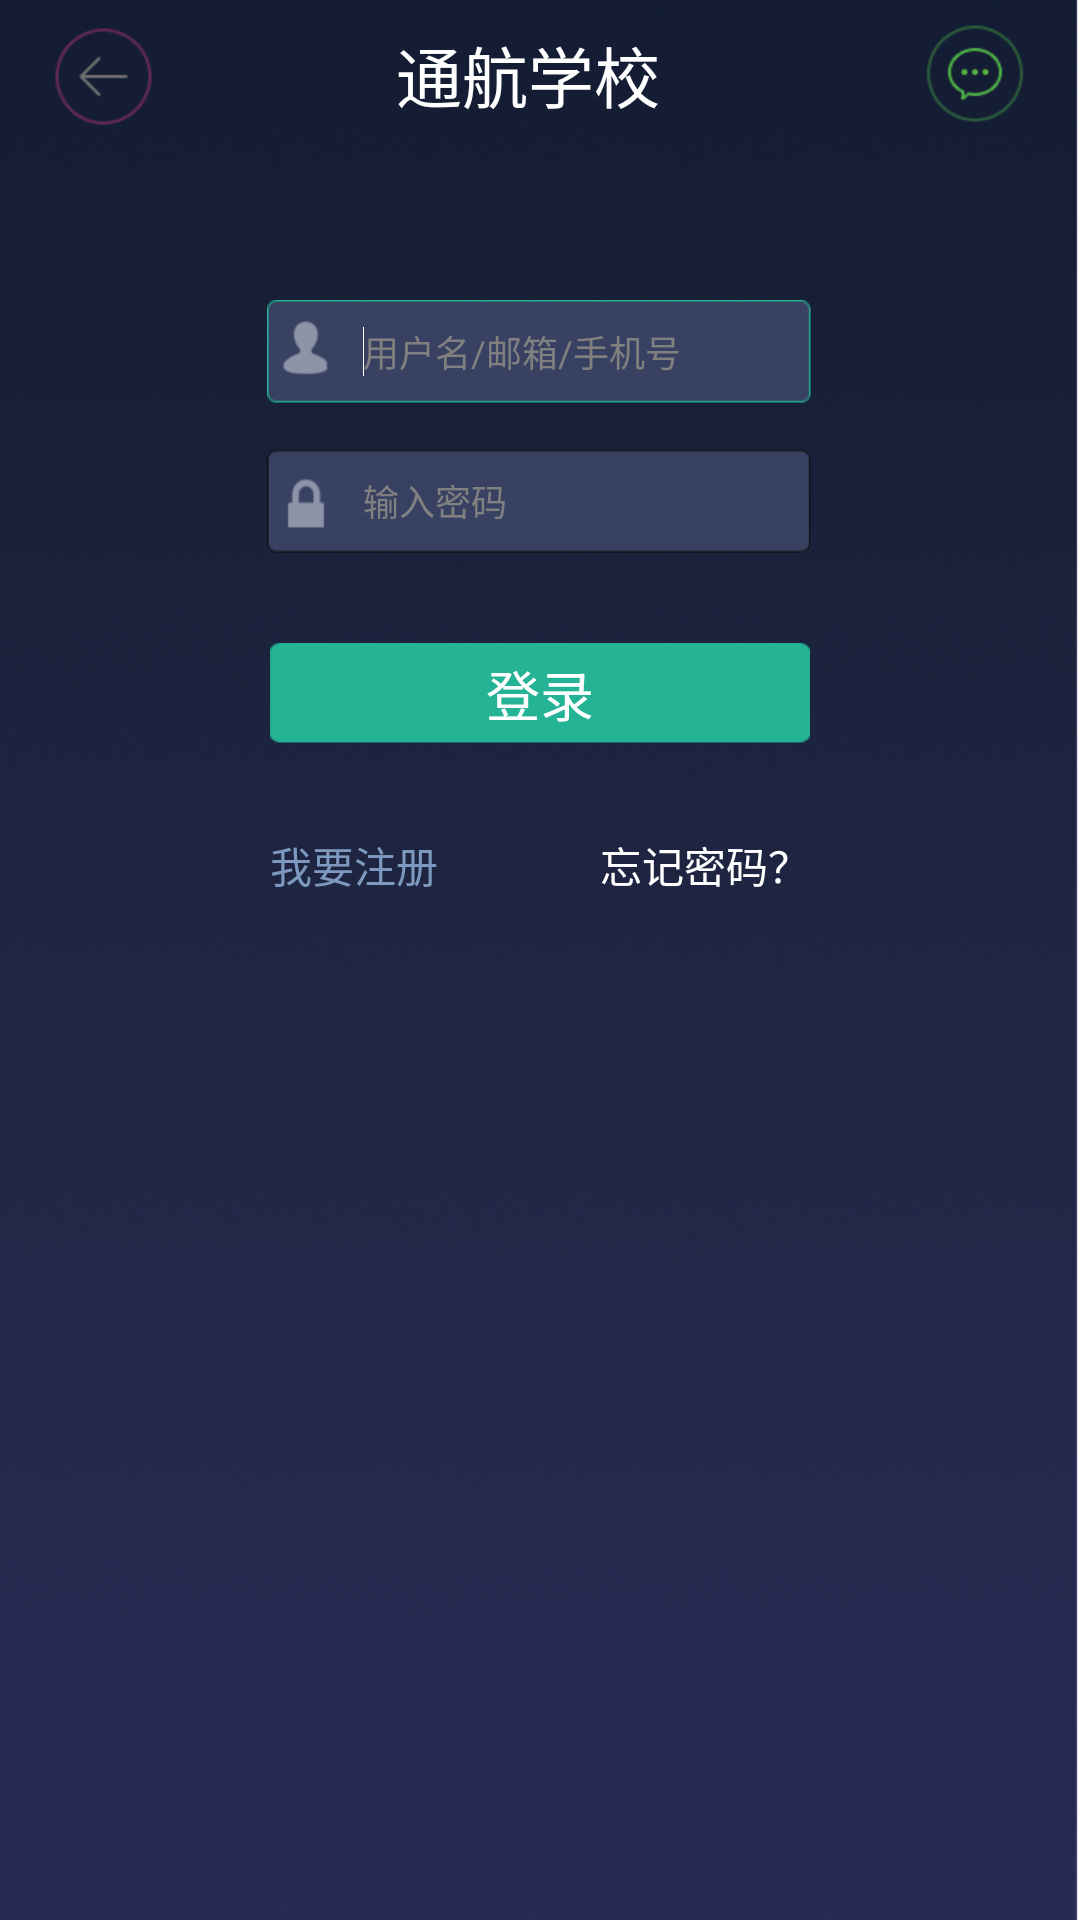

Screen size 1080x1920. Icon name, then its center in pixels as [x,y]:
back: [103,76]
